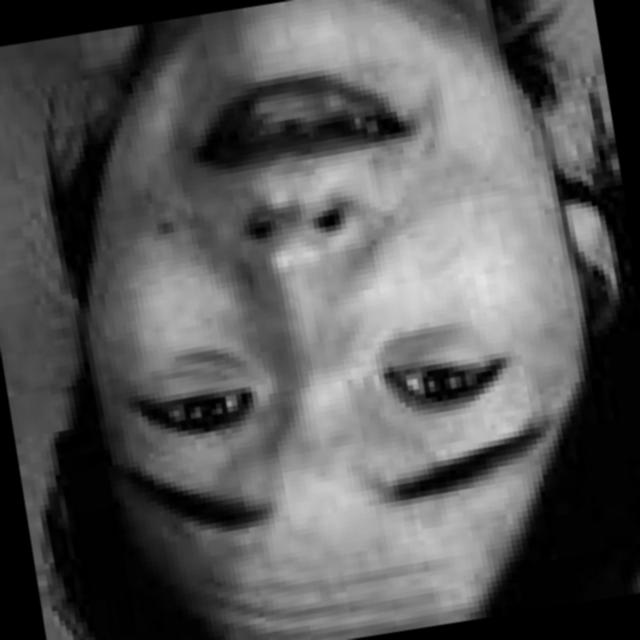fear: (23, 0, 635, 618)
